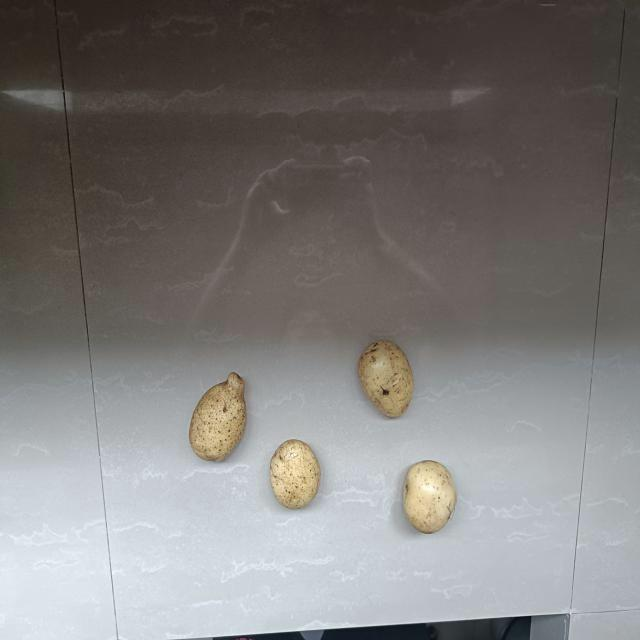potato: (186, 371, 251, 471), (355, 337, 413, 421), (401, 458, 458, 536), (269, 437, 323, 516)
